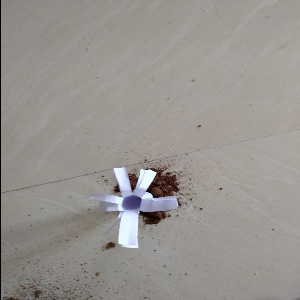weed: (103, 167, 176, 249)
